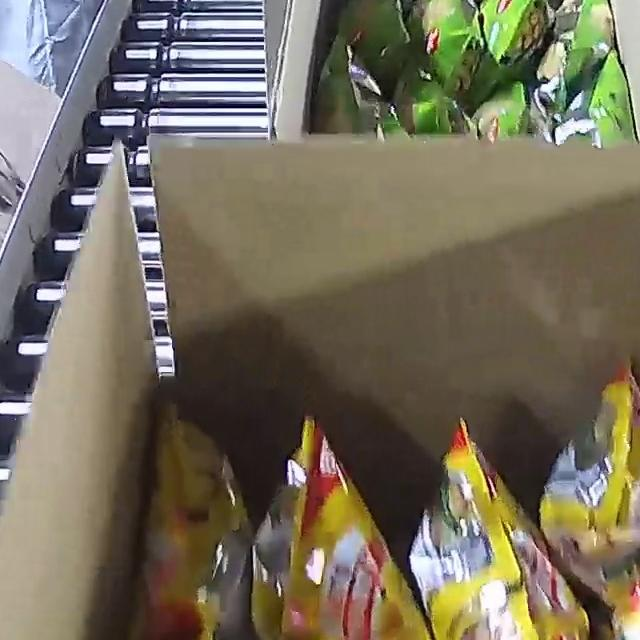salted: (117, 359, 640, 640)
yogurt: (330, 0, 637, 155)
